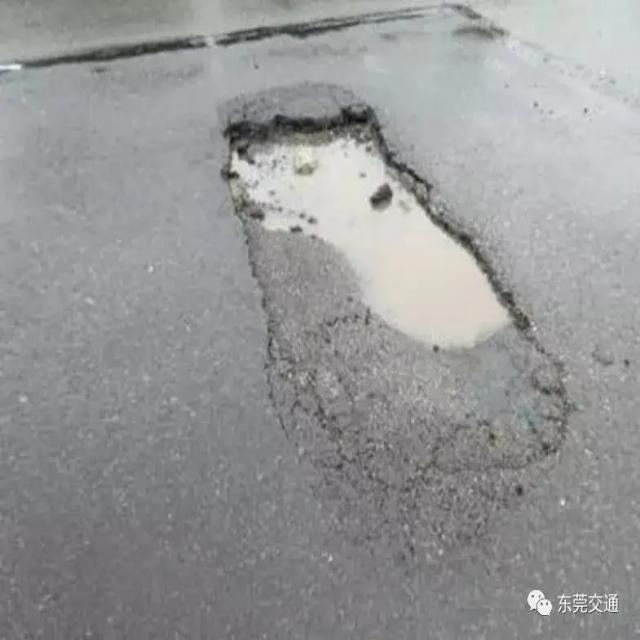Pothole: (222, 87, 570, 512)
